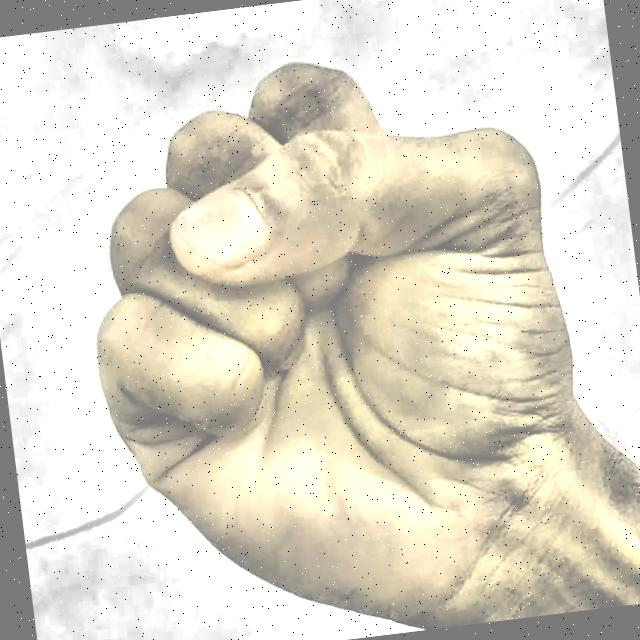Sha: (29, 0, 626, 640)
